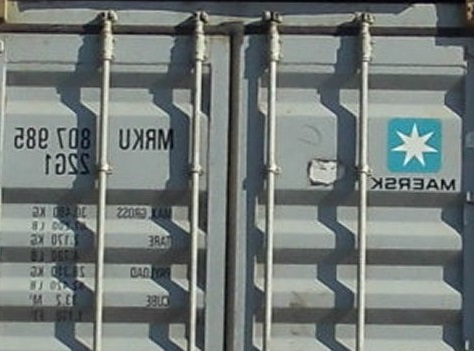container_door: (5, 3, 469, 351)
